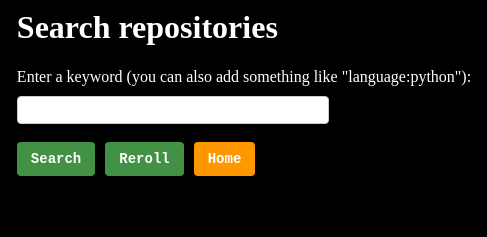
Test: Search › handles error when search fails
Type "react" into the field. click: (173, 110)
box: [17,96,329,124]
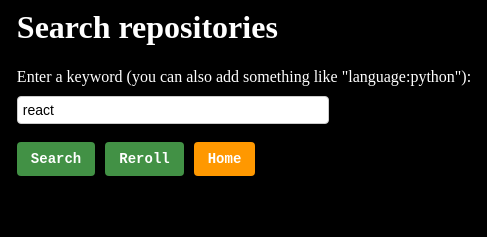
Click the button "Search". click: (56, 159)
box: [17,142,95,176]
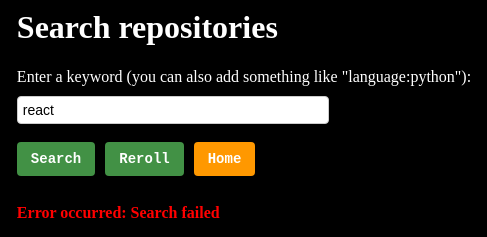
Now the text "Error occurred: Search failed" is shown, box [17,204,220,221]
